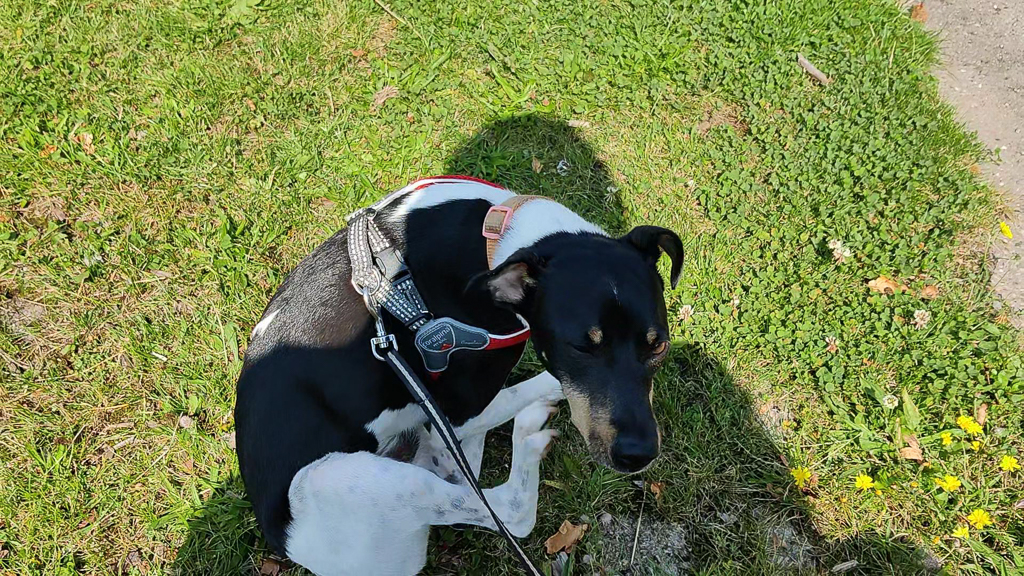Dog: (201, 153, 702, 576)
